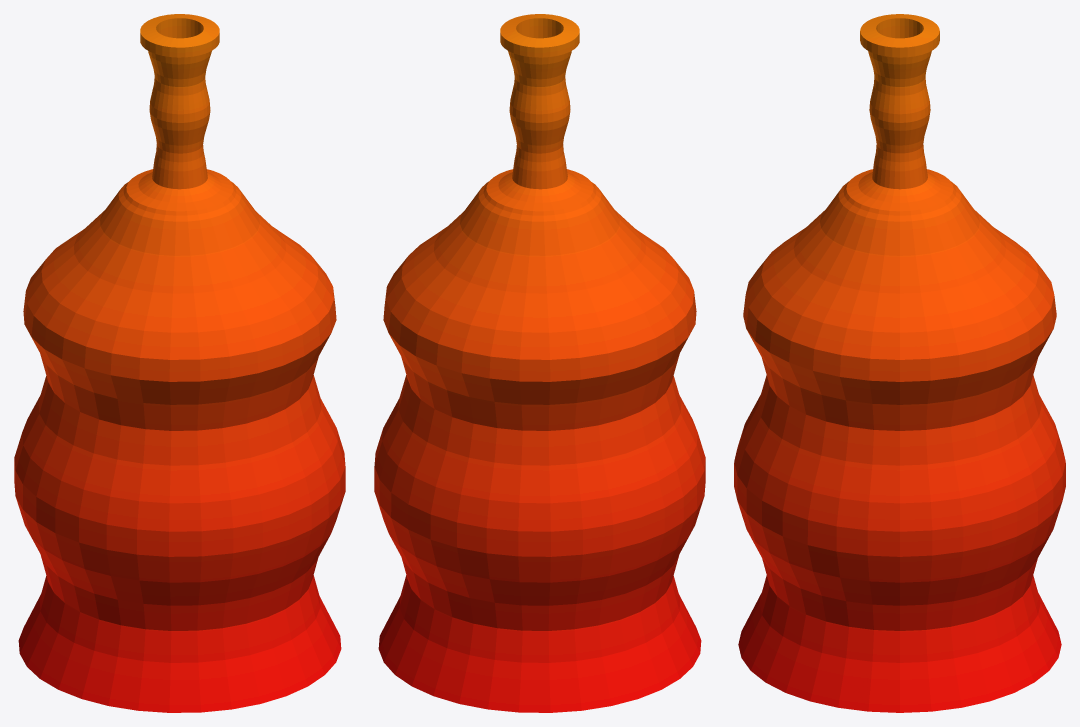
Rendered from UniqueBottle1.fbx.
The picture shows the model from 3 angles, left to right: view 1: azimuth 30°, elevation 25°; view 2: azimuth 150°, elevation 25°; view 3: azimuth 270°, elevation 25°; orthographic projection.
Visible parts, largest first — view 1: UniqueBottle1; view 2: UniqueBottle1; view 3: UniqueBottle1.
Boxes of the visible parts, box(x1,y1,x2,y2) form: UniqueBottle1: box(14, 14, 345, 712); UniqueBottle1: box(374, 14, 705, 712); UniqueBottle1: box(734, 14, 1065, 712).
Size of the model in its own units: 89.94 by 184 by 89.94.
